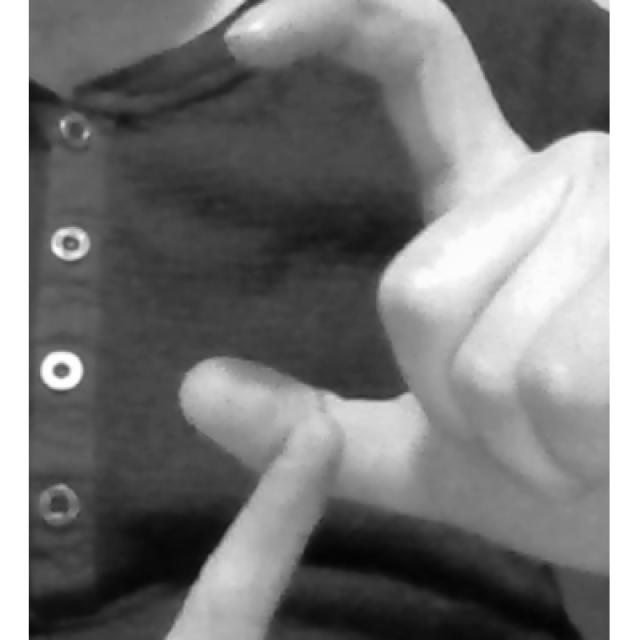C_: (162, 0, 610, 640)
